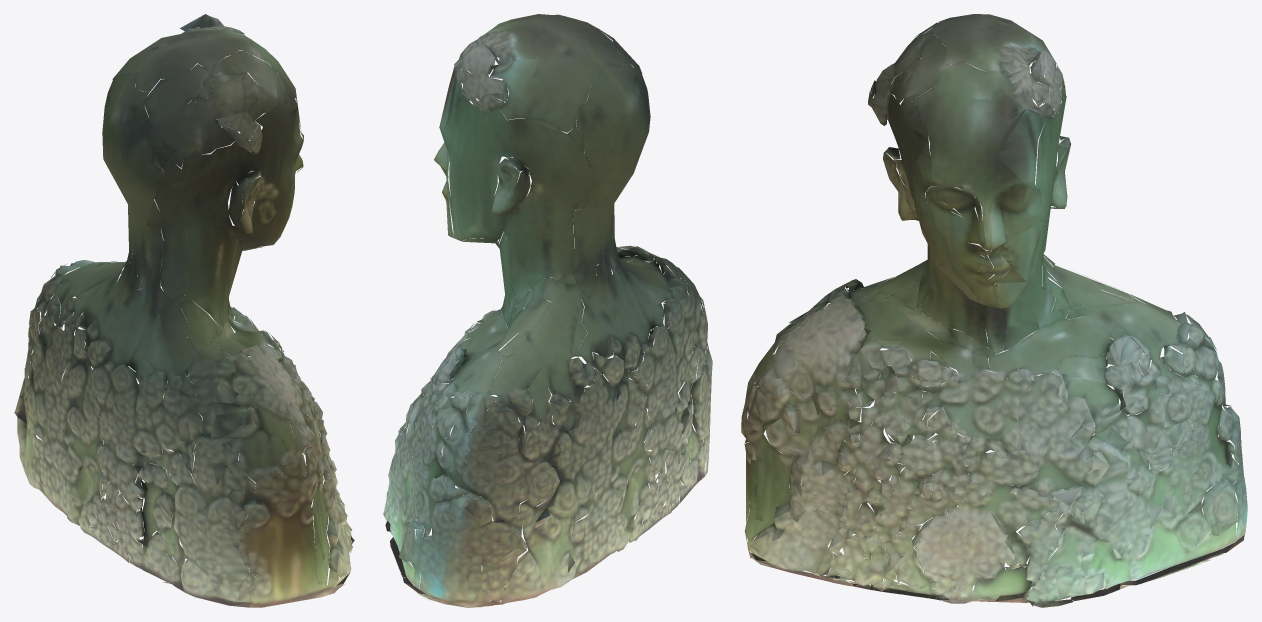
The model's file is Statue1_LOD2.glb.
3 views of the same model, side by side, from view 1: azimuth 30°, elevation 25°; view 2: azimuth 150°, elevation 25°; view 3: azimuth 270°, elevation 25° (orthographic). The views are drawn at different scales.
Parts seen in each view (by area): view 1: Statue 1.001_LOD2; view 2: Statue 1.001_LOD2; view 3: Statue 1.001_LOD2.
Part boxes in pixels (box(x1,y1,x2,y2)): Statue 1.001_LOD2: box(14, 14, 354, 607); Statue 1.001_LOD2: box(383, 14, 712, 607); Statue 1.001_LOD2: box(741, 14, 1247, 607).
Size of the model in its own units: 0.2595 by 0.5201 by 0.4604.
1 material, 1 textured.
